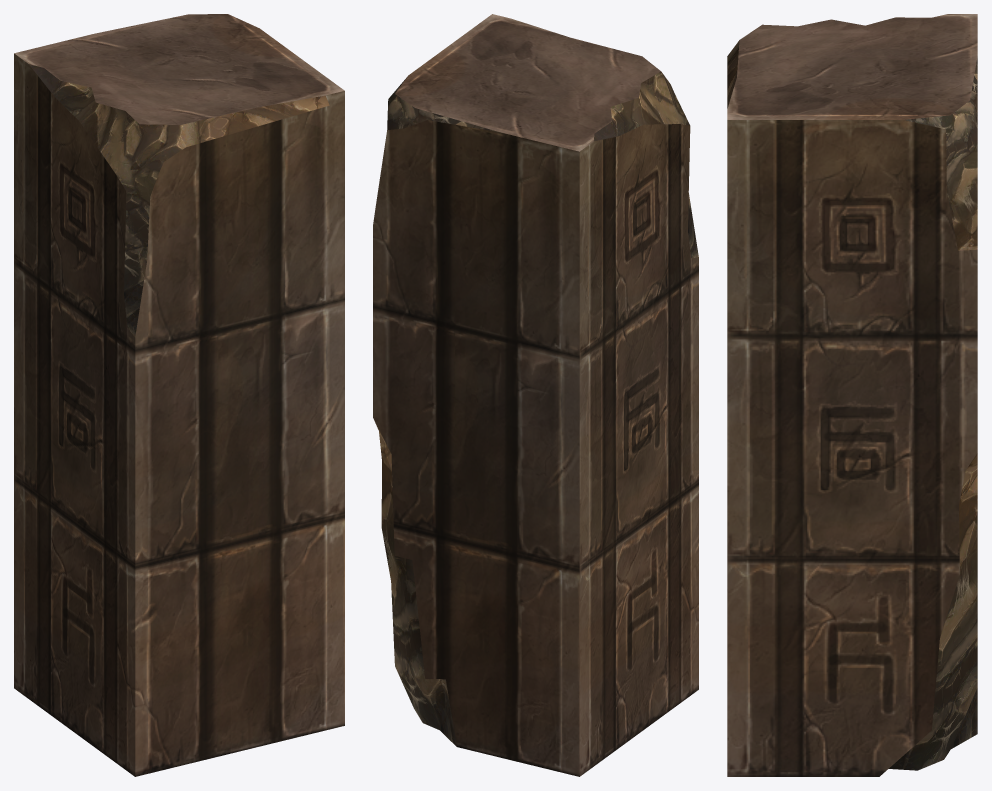
File: D_shizhu010.fbx
3 views of the same model, side by side, from view 1: azimuth 30°, elevation 25°; view 2: azimuth 150°, elevation 25°; view 3: azimuth 270°, elevation 25° (orthographic). The views are drawn at different scales.
Parts seen in each view (by area): view 1: D_shizhu010; view 2: D_shizhu010; view 3: D_shizhu010.
Part boxes in pixels (x1,y1,x2,y2): D_shizhu010: (14,14,344,776); D_shizhu010: (373,14,698,776); D_shizhu010: (727,14,977,776).
Size of the model in its own units: 93.34 by 270 by 93.34.
